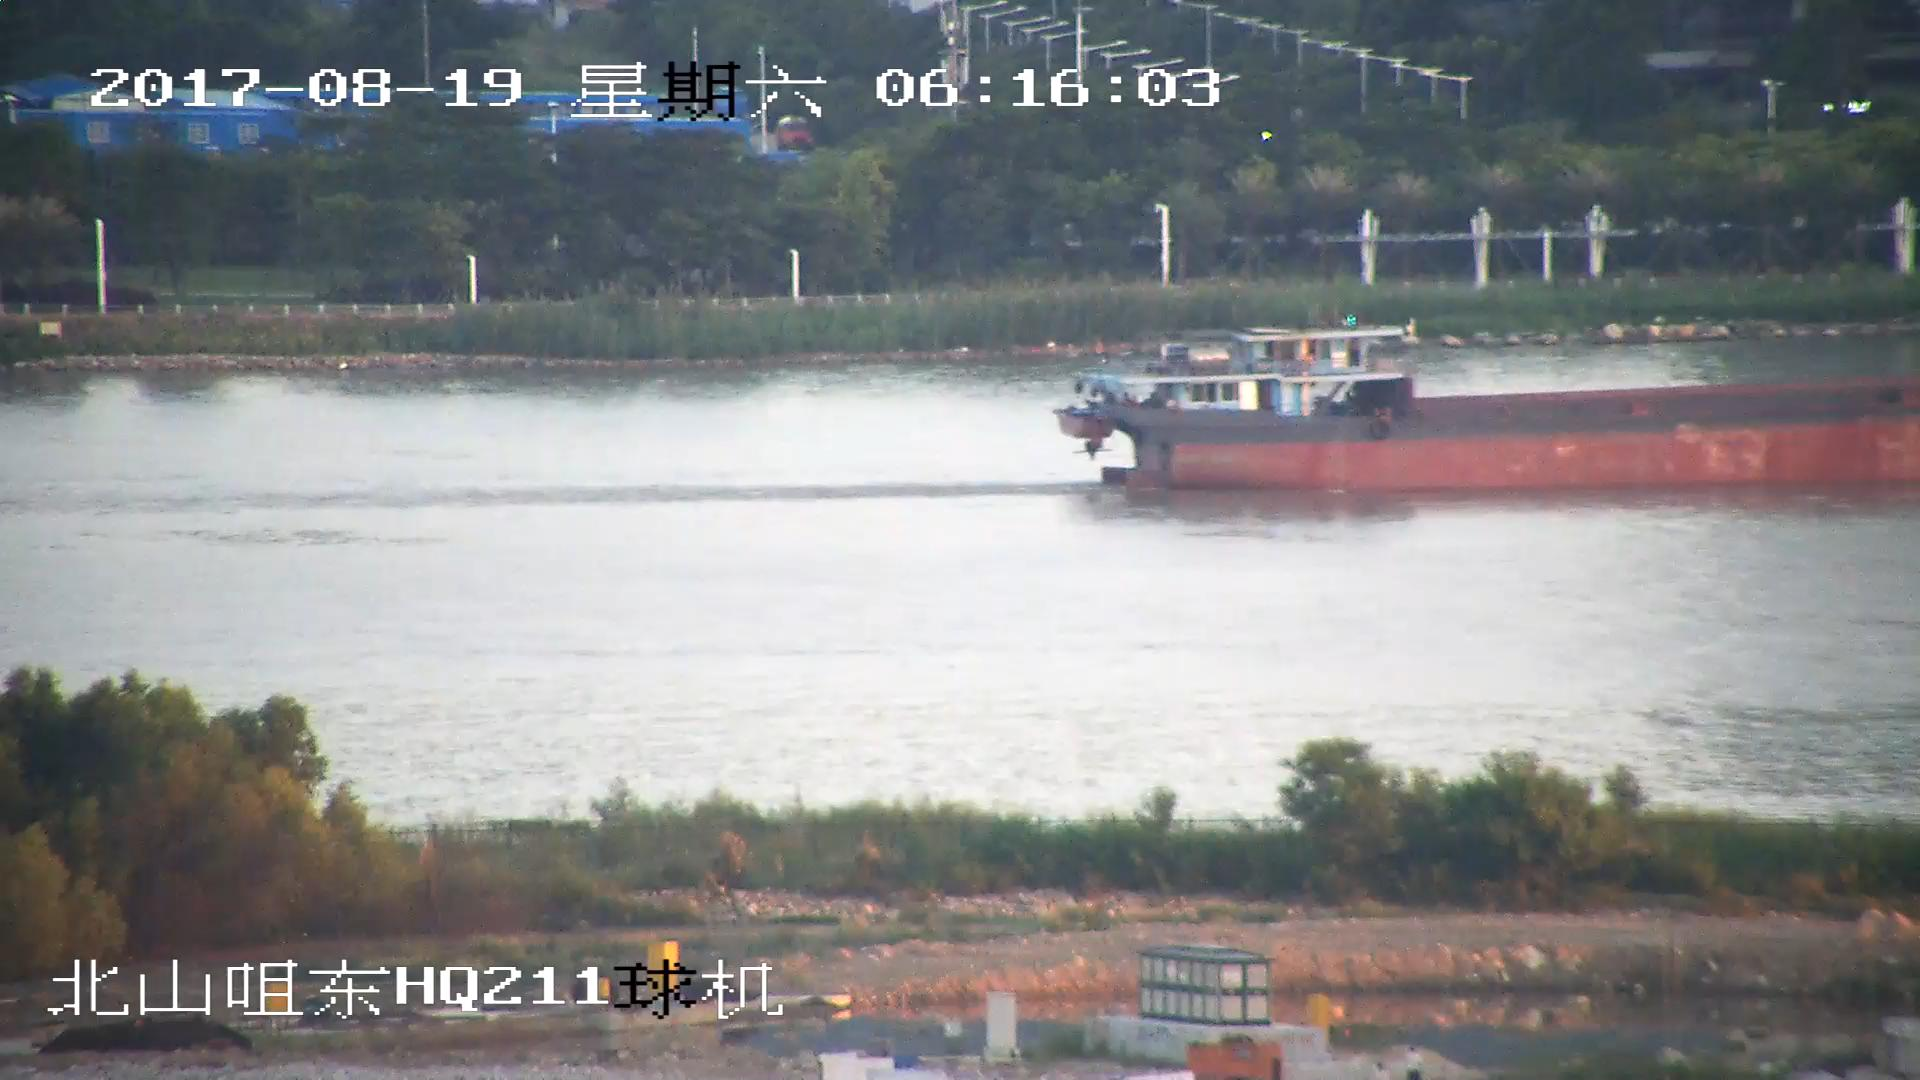bulk cargo carrier: (1053, 321, 1920, 497)
